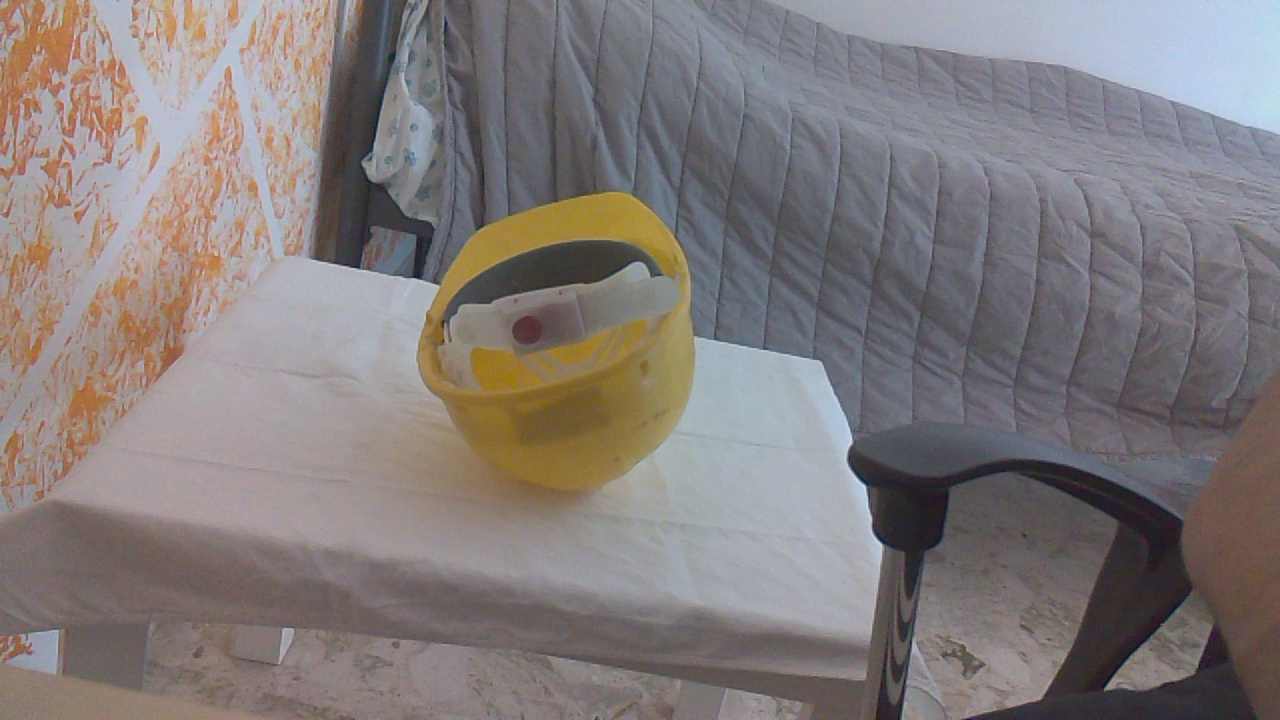Helmet: (402, 192, 753, 500)
